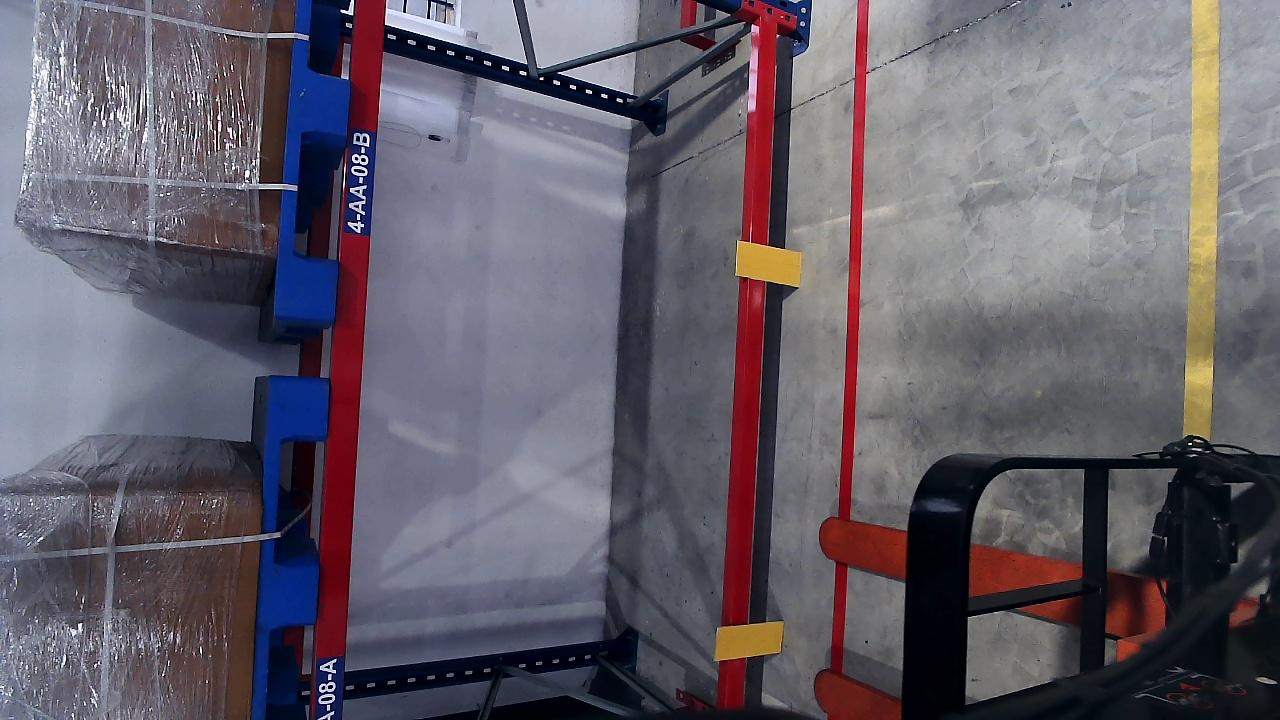h_rack: (315, 0, 388, 621), (719, 26, 775, 711)
orange_strip: (735, 241, 801, 287), (715, 621, 785, 661)
red_line: (836, 9, 869, 593)
small_pallet: (270, 0, 366, 315), (248, 376, 332, 720)
yellow_line: (1181, 0, 1221, 440)
